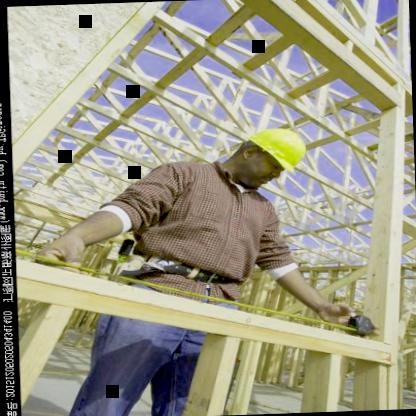helmet: (219, 123, 318, 189)
